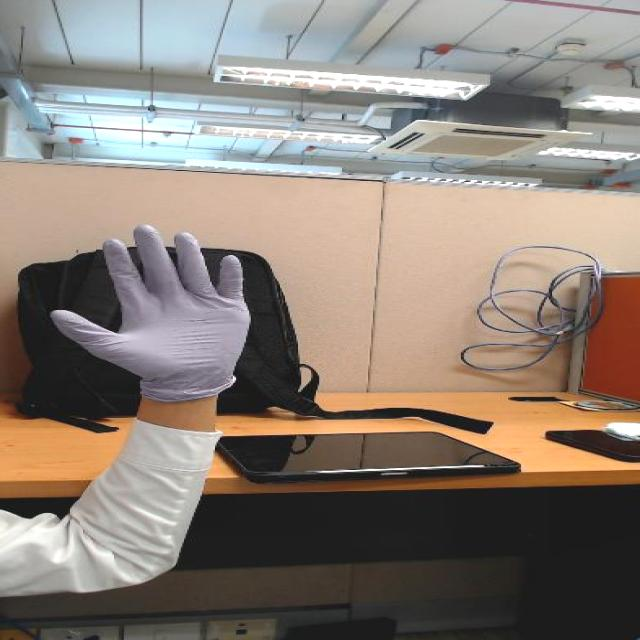glove: (32, 219, 264, 359)
